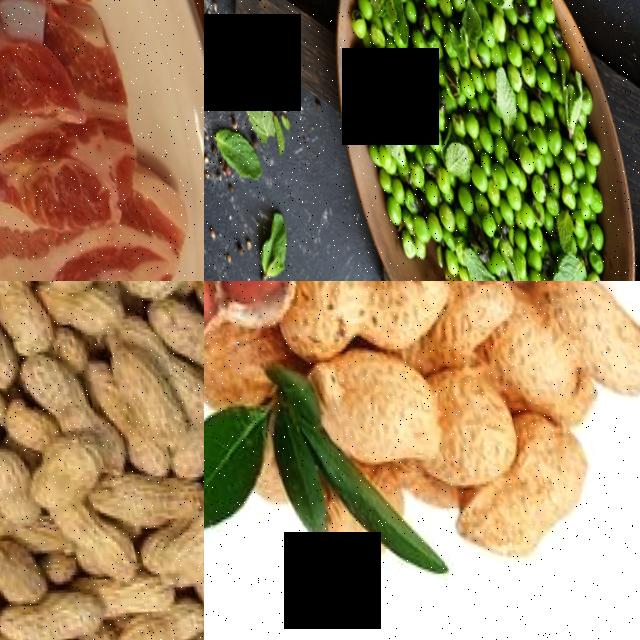peanuts: (434, 460, 609, 569), (301, 335, 437, 467), (406, 358, 518, 482), (283, 281, 455, 355), (554, 281, 640, 397), (10, 418, 109, 512), (104, 333, 179, 438), (0, 573, 97, 640), (0, 281, 53, 353), (0, 436, 30, 528), (205, 281, 288, 313)
peas: (336, 0, 603, 240)
pork belly: (0, 0, 146, 281)
